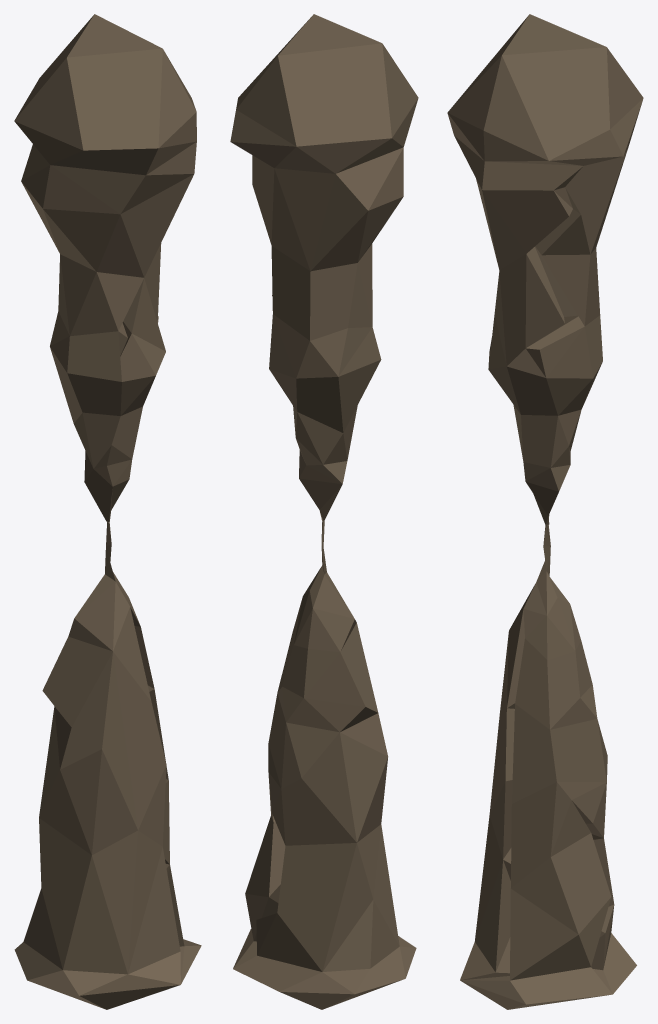
File: StalactitesNormalTwo.fbx
3 renders of one model, left to right at view 1: azimuth 30°, elevation 25°; view 2: azimuth 150°, elevation 25°; view 3: azimuth 270°, elevation 25°, orthographic.
Parts seen in each view (by area): view 1: stalactites_stalagmites.001; view 2: stalactites_stalagmites.001; view 3: stalactites_stalagmites.001.
Boxes of the visible parts, box(x1,y1,x2,y2) form: stalactites_stalagmites.001: box(14, 14, 201, 1009); stalactites_stalagmites.001: box(230, 14, 418, 1009); stalactites_stalagmites.001: box(447, 14, 643, 1009).
Size of the model in its own units: 127 by 695 by 129.
